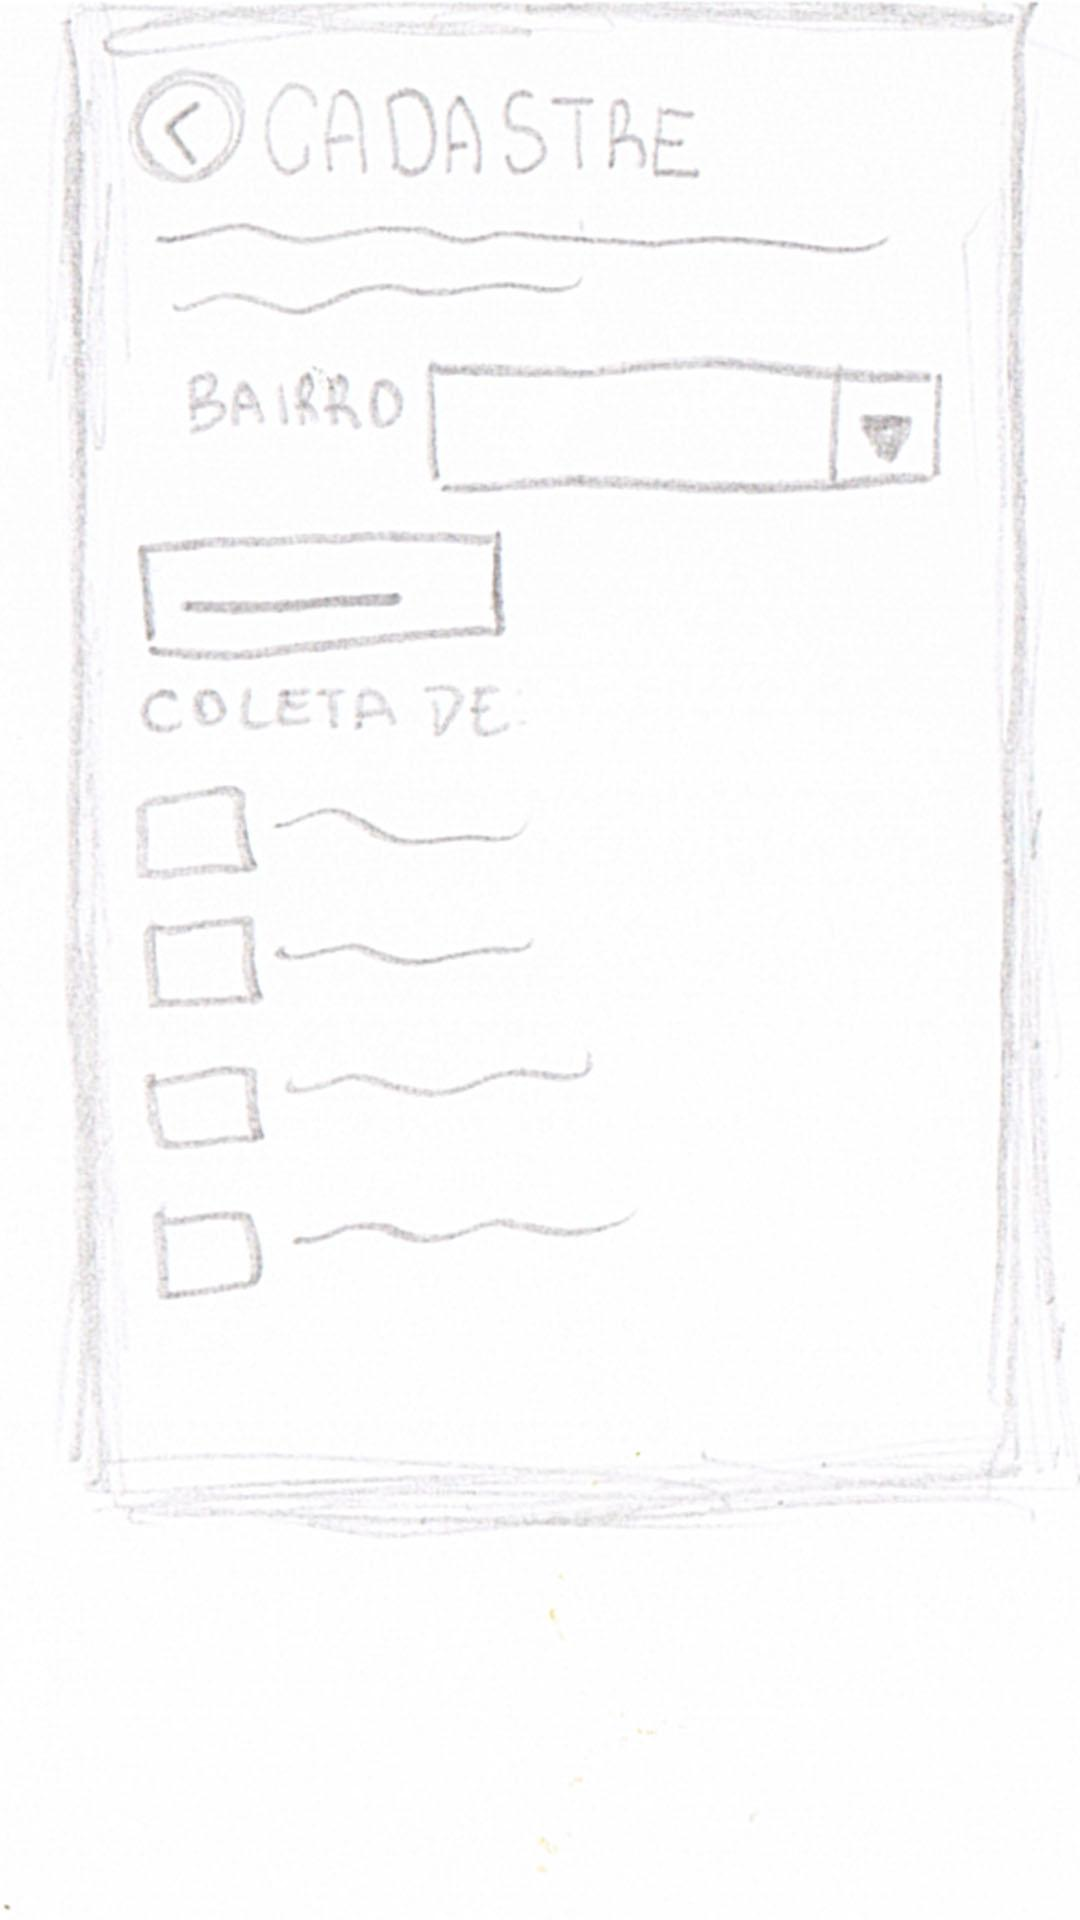Button: (135, 74, 244, 183)
CheckBox: (157, 1204, 637, 1298), (148, 1050, 599, 1146), (137, 782, 537, 881), (144, 913, 549, 1007)
Label: (153, 212, 890, 322), (265, 83, 703, 185), (144, 679, 534, 753), (190, 367, 405, 443)
ListPicker: (427, 357, 942, 496)
Screen: (74, 5, 1039, 1510)
TextBox: (141, 530, 505, 655)
